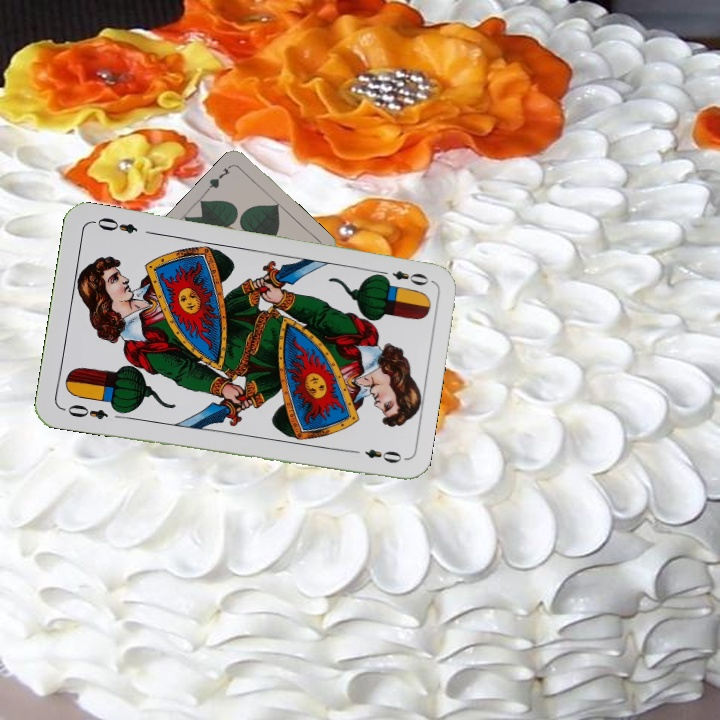EO: (374, 266, 432, 288), (64, 400, 111, 423)
G7: (203, 161, 235, 194)
